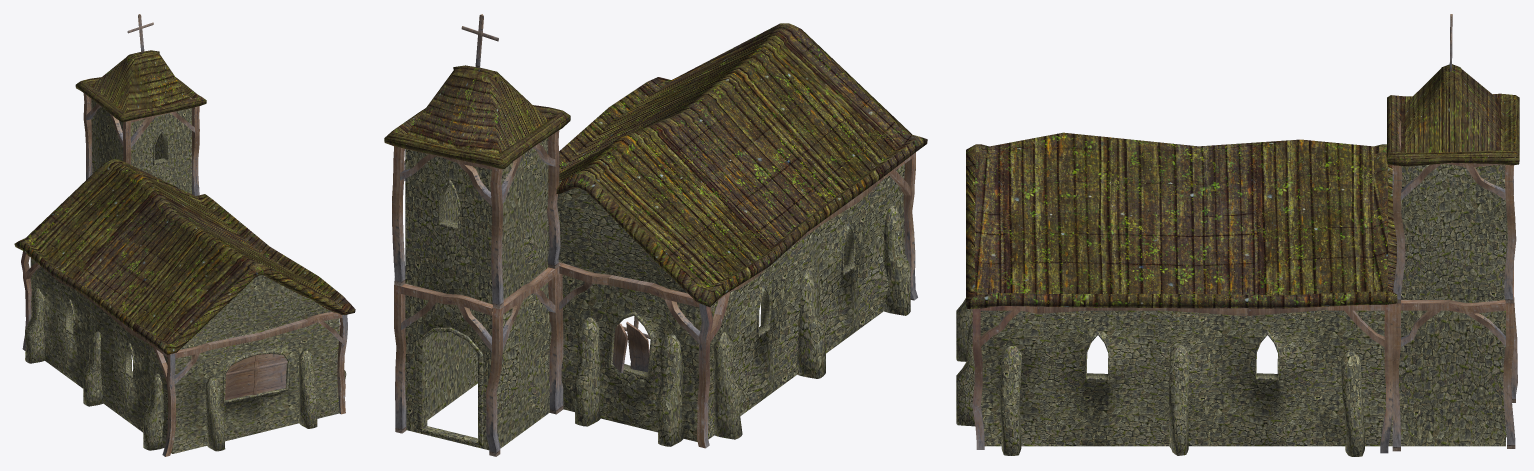
The model's file is Church.FBX.
3 renders of one model, left to right at view 1: azimuth 30°, elevation 25°; view 2: azimuth 150°, elevation 25°; view 3: azimuth 270°, elevation 25°, orthographic. The views are drawn at different scales.
Visible parts, largest first — view 1: Box041, ChurchExport, Box094, Box086, Box108, Box087, Box112, Box121, Box117, Box115, Box122, Box116 (+7 smaller); view 2: Box041, ChurchExport, Box094, Box086, Box081, Box073, Box110, Box112, Box114, Box113, Box116, Box115 (+17 smaller); view 3: Box041, Box097, ChurchExport, Box111, Box086, Box119, Box118, Box120, Box102, Box103, Box121, Box068 (+6 smaller).
Part boxes in pixels (bbox=[...]): Box041: bbox=[14, 159, 355, 354]; ChurchExport: bbox=[45, 14, 339, 453]; Box094: bbox=[30, 258, 172, 453]; Box086: bbox=[75, 50, 206, 122]; Box108: bbox=[180, 275, 331, 349]; Box087: bbox=[130, 108, 191, 193]; Box112: bbox=[91, 99, 123, 173]; Box121: bbox=[299, 349, 317, 428]; Box117: bbox=[143, 373, 163, 450]; Box115: bbox=[25, 288, 44, 363]; Box122: bbox=[205, 376, 225, 451]; Box116: bbox=[83, 331, 103, 406]; Box041: bbox=[556, 23, 927, 307]; ChurchExport: bbox=[405, 14, 883, 450]; Box094: bbox=[708, 164, 904, 439]; Box086: bbox=[384, 65, 570, 169]; Box081: bbox=[405, 149, 492, 304]; Box073: bbox=[496, 269, 551, 448]; Box110: bbox=[548, 188, 687, 293]; Box112: bbox=[501, 137, 548, 299]; Box114: bbox=[657, 334, 683, 446]; Box113: bbox=[575, 317, 600, 426]; Box116: bbox=[797, 270, 825, 378]; Box115: bbox=[714, 332, 742, 439]; Box041: bbox=[966, 132, 1397, 308]; Box097: bbox=[980, 310, 1392, 446]; ChurchExport: bbox=[1037, 14, 1506, 446]; Box111: bbox=[1401, 164, 1505, 299]; Box086: bbox=[1387, 64, 1519, 166]; Box119: bbox=[1000, 346, 1021, 455]; Box118: bbox=[1168, 345, 1189, 455]; Box120: bbox=[1341, 350, 1364, 456]; Box102: bbox=[1328, 304, 1392, 453]; Box103: bbox=[972, 306, 1037, 449]; Box121: bbox=[956, 321, 975, 426]; Box068: bbox=[1503, 303, 1515, 448].
Bounding box in the file's own units: 402 × 557 × 698.
